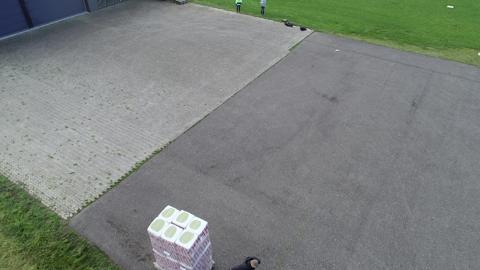RockwoolPallet: (147, 204, 216, 270)
